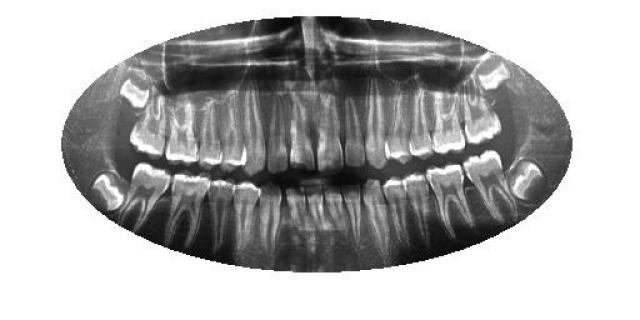Restorations: (505, 154, 549, 206), (88, 170, 128, 214), (476, 59, 514, 95), (118, 74, 152, 112)
